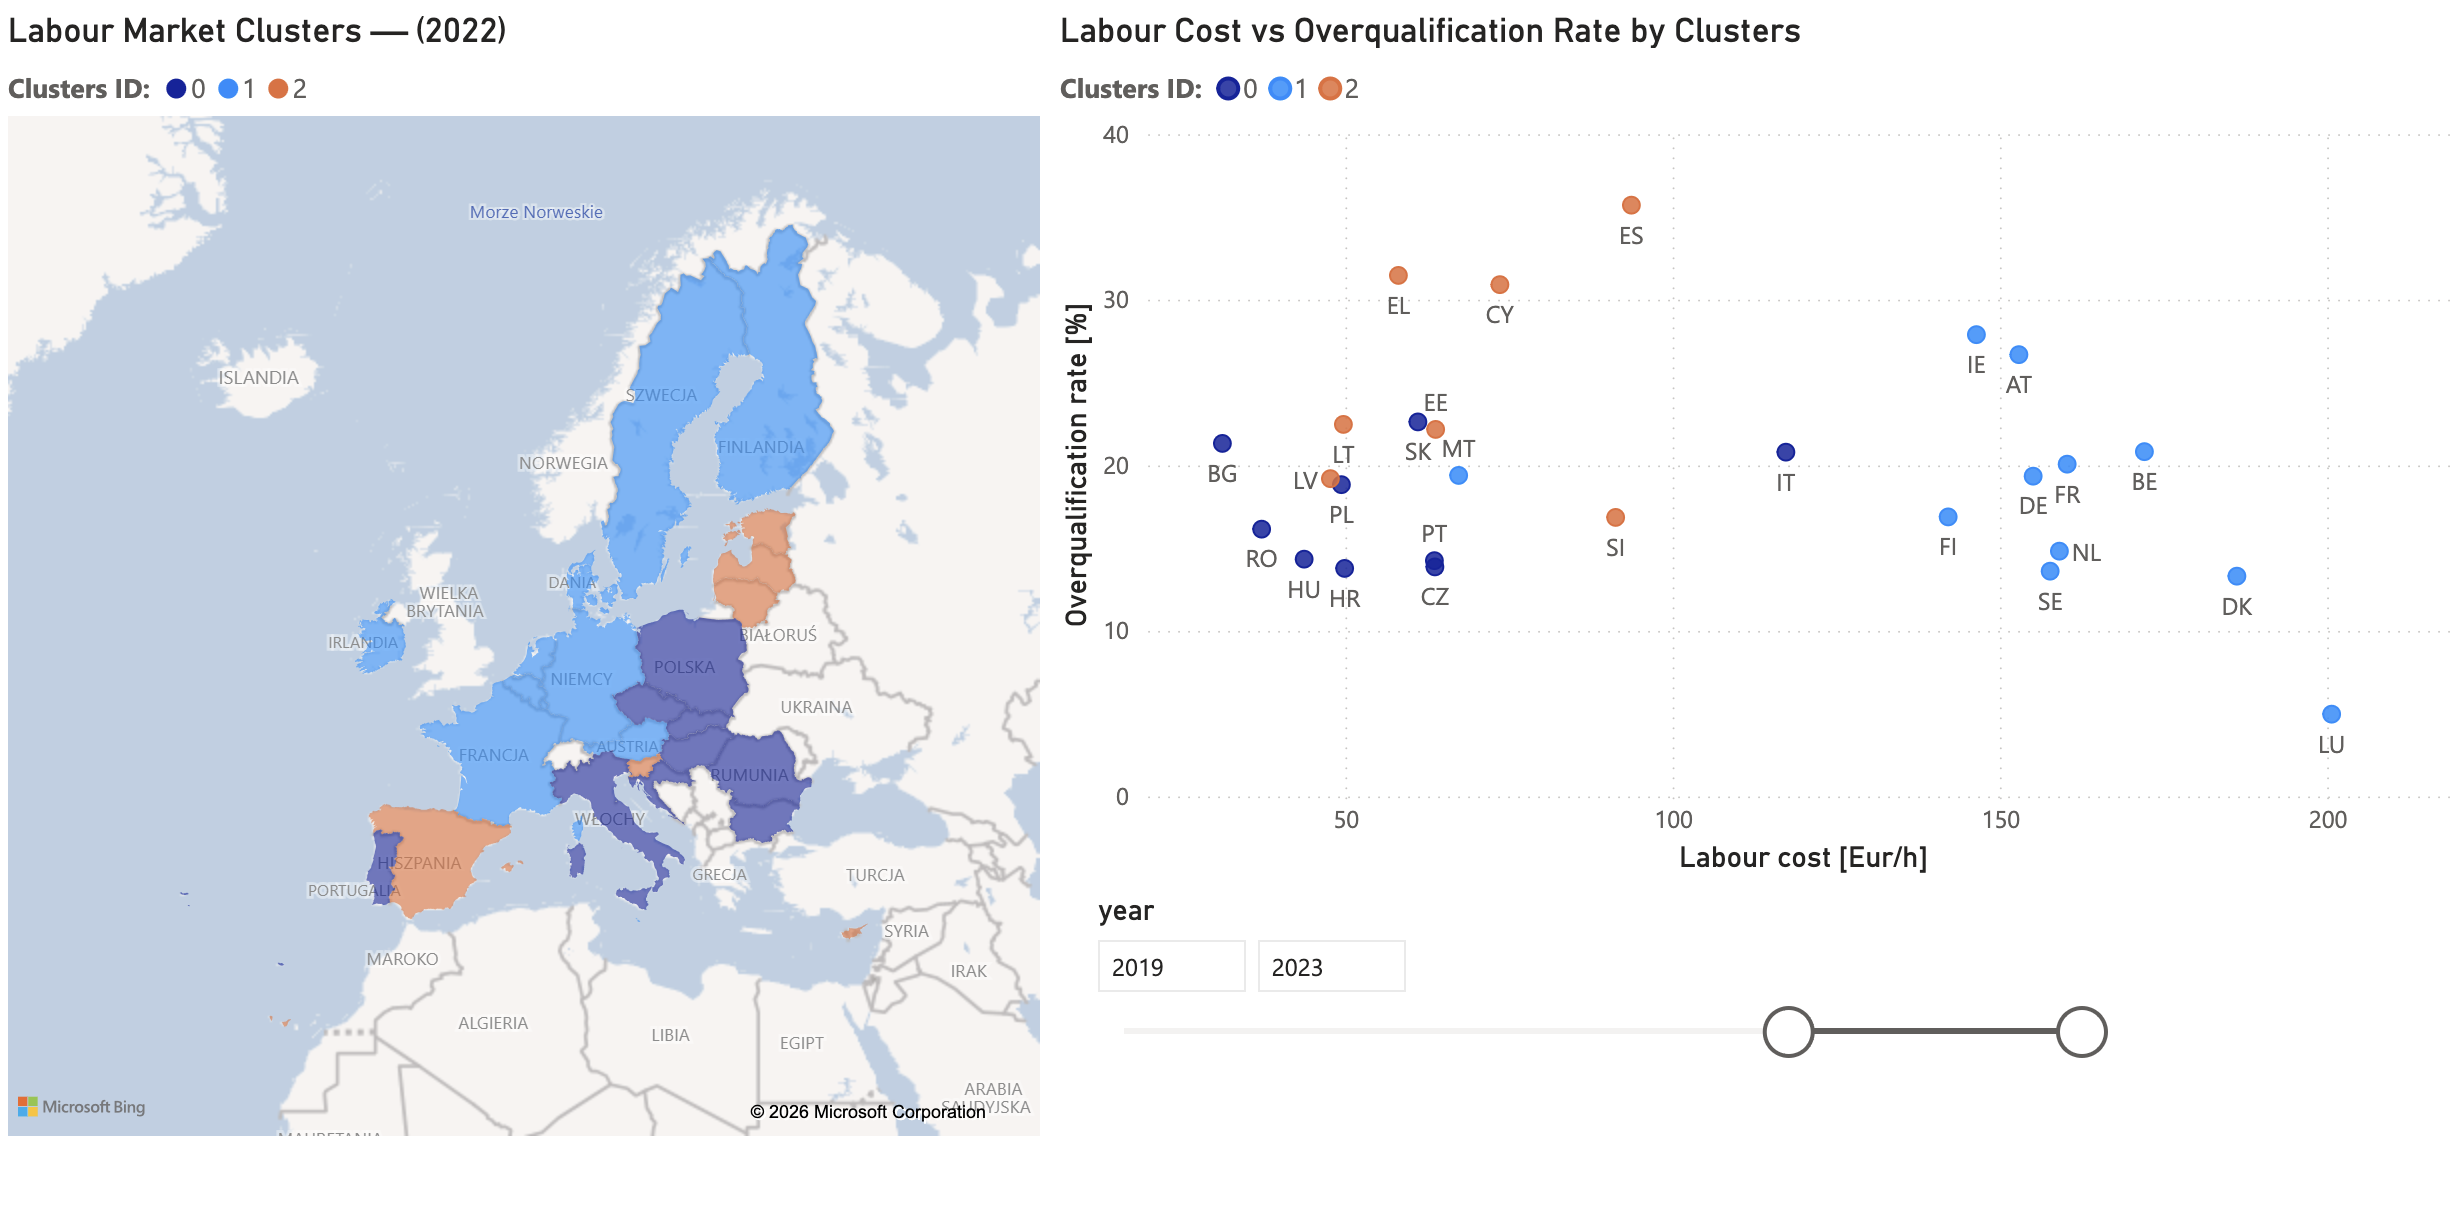

This screenshot's page, from the dashboard's own definition file:
{"tool":"powerbi","page":{"name":"Strona 1","canvas":[1280,720],"ordinal":0},"visuals":[{"type":"filledMap","title":"Labour Market Clusters — (2022)","fields":{"Category":["clustering_data.geo"],"Series":["clusters.cluster_id"]},"box":[0,0,526,568],"z":0},{"type":"scatterChart","title":"Labour Cost vs Overqualification Rate by Clusters","fields":{"Y":["Avg(clustering_data.overqualification_rate)"],"X":["Sum(clustering_data.labour_cost_eur_h)"],"Series":["clusters.cluster_id"],"Category":["clustering_data.geo"]},"box":[526,0,719,437],"z":1000},{"type":"slicer","fields":{"Values":["clustering_data.year"]},"box":[537,437,526,150],"z":2000}]}

Visuals, with their boxes on the page's 1280x720 design canvas (x1, y1, x2, y2). These are canvas units, not pixel positions in the 2458x1220 screenshot, which may show the page scaled, cropped or inside an application window:
"Labour Market Clusters — (2022)" filledMap: box=[0, 0, 526, 568]
"Labour Cost vs Overqualification Rate by Clusters" scatterChart: box=[526, 0, 1245, 437]
slicer - clustering_data.year: box=[537, 437, 1063, 587]
